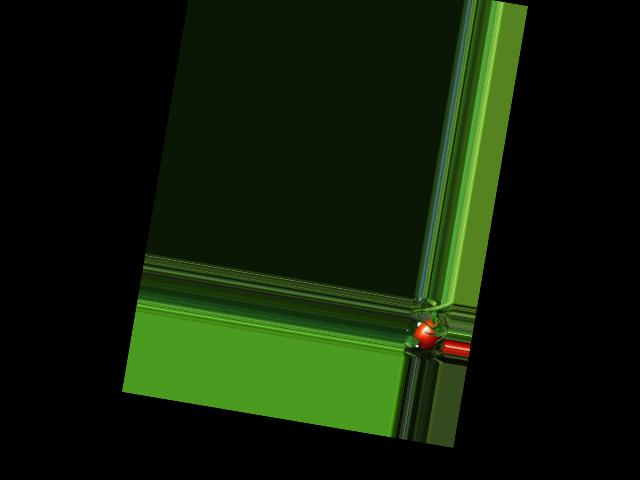tomato: (412, 317, 442, 351)
